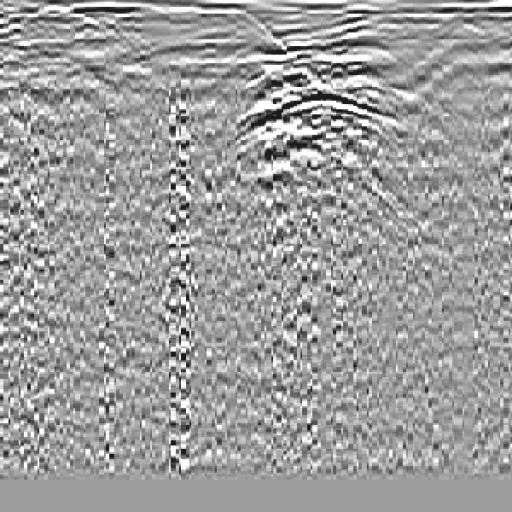metalic: (229, 26, 408, 201)
